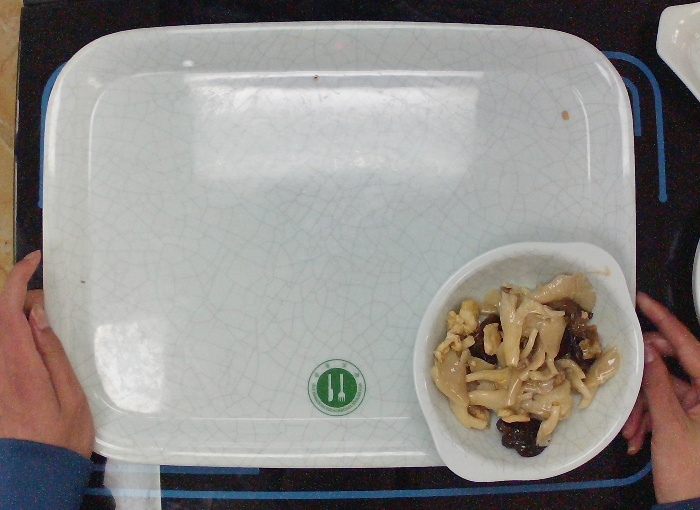JYsf-Shuang_Er_Wan: (404, 232, 651, 486)
